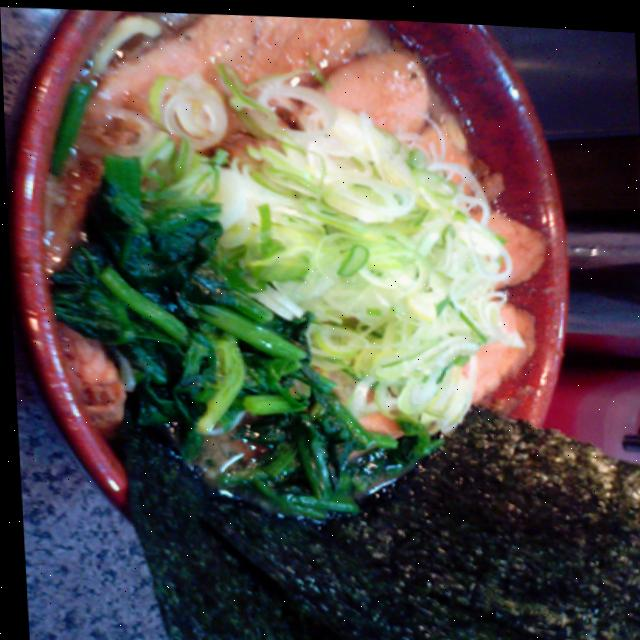面条主食: (36, 1, 569, 557)
